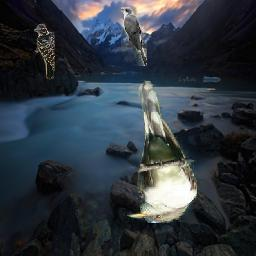Cuckoo: (127, 79, 197, 223), (121, 8, 147, 67)
Woodpecker: (35, 24, 56, 81)
